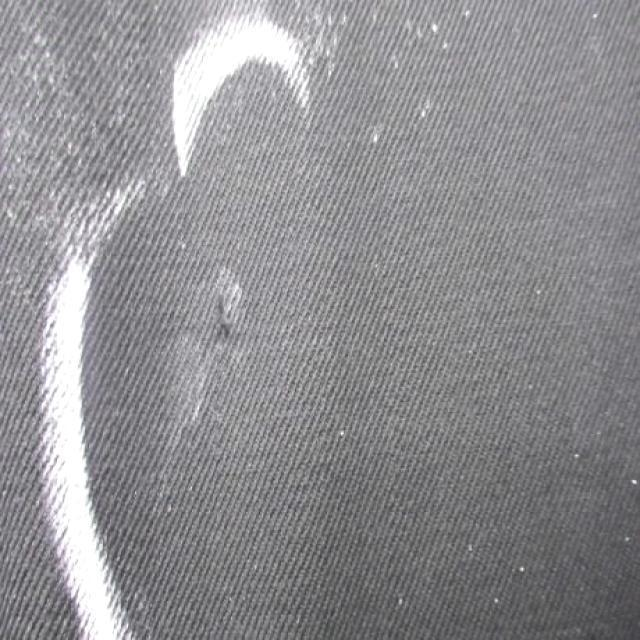Thread_other: (136, 228, 316, 461)
